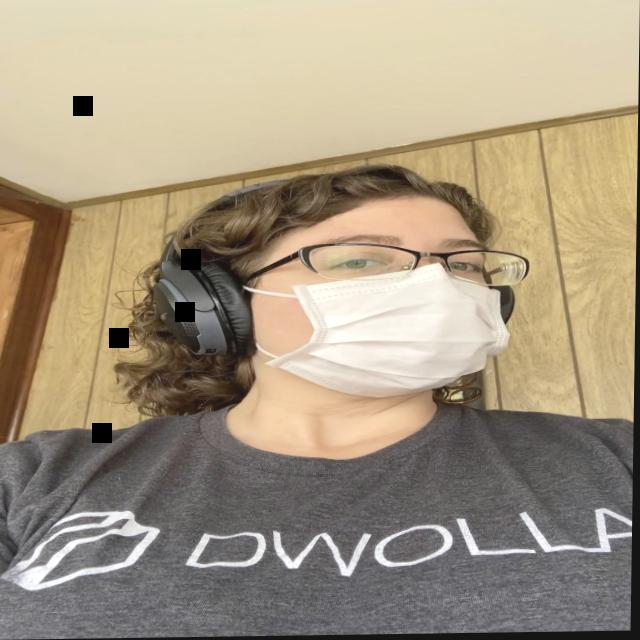Mask: (245, 198, 516, 401)
